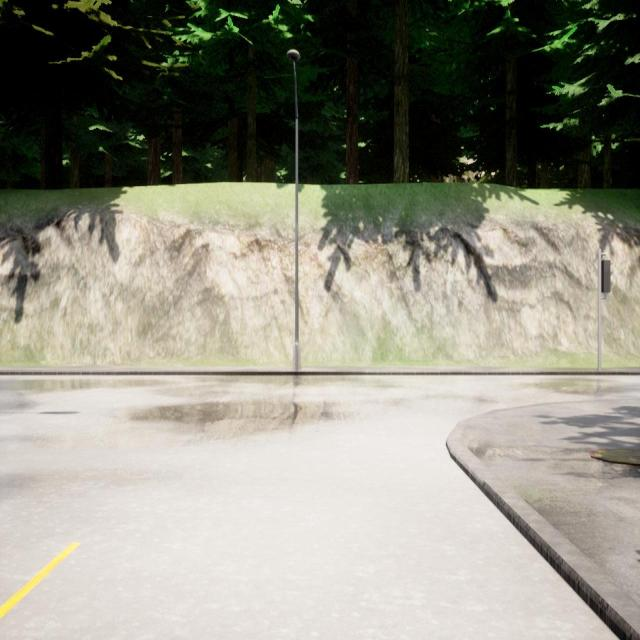traffic_light: (601, 260, 613, 293)
